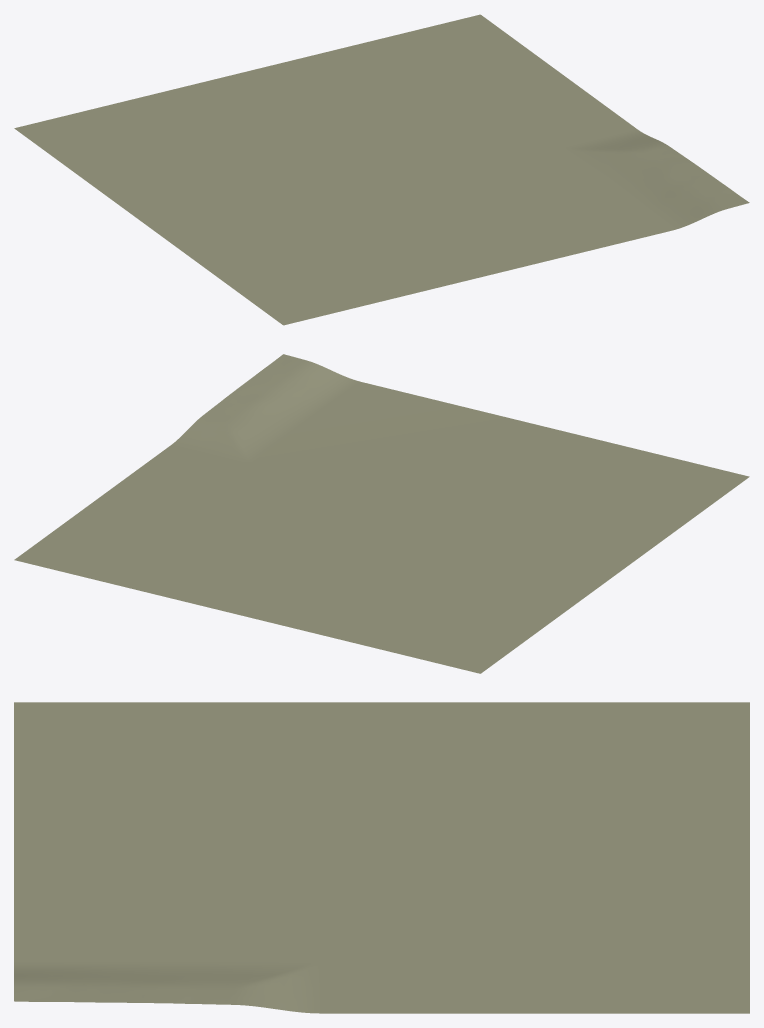
File: SM_VB_CityTerrain_7_4.fbx
3 renders of one model, top to bottom at view 1: azimuth 30°, elevation 25°; view 2: azimuth 150°, elevation 25°; view 3: azimuth 270°, elevation 25°, orthographic. The views are drawn at different scales.
Visible parts, largest first — view 1: SM_VB_CityTerrain_7_4; view 2: SM_VB_CityTerrain_7_4; view 3: SM_VB_CityTerrain_7_4.
Boxes of the visible parts, x1,y1,x2,y2 form: SM_VB_CityTerrain_7_4: (14,14,749,325); SM_VB_CityTerrain_7_4: (14,354,749,673); SM_VB_CityTerrain_7_4: (14,702,749,1013).
Bounding box in the file's own units: 600 × 10.83 × 600.
